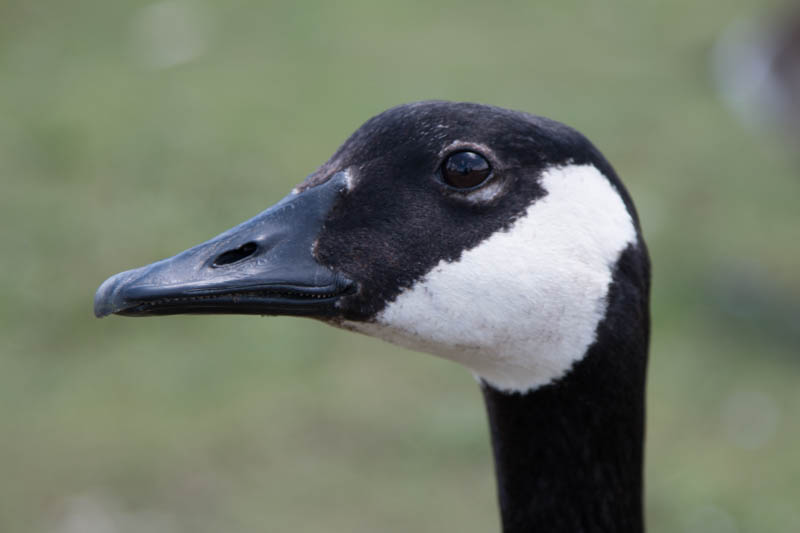goose-head: (92, 101, 650, 393)
